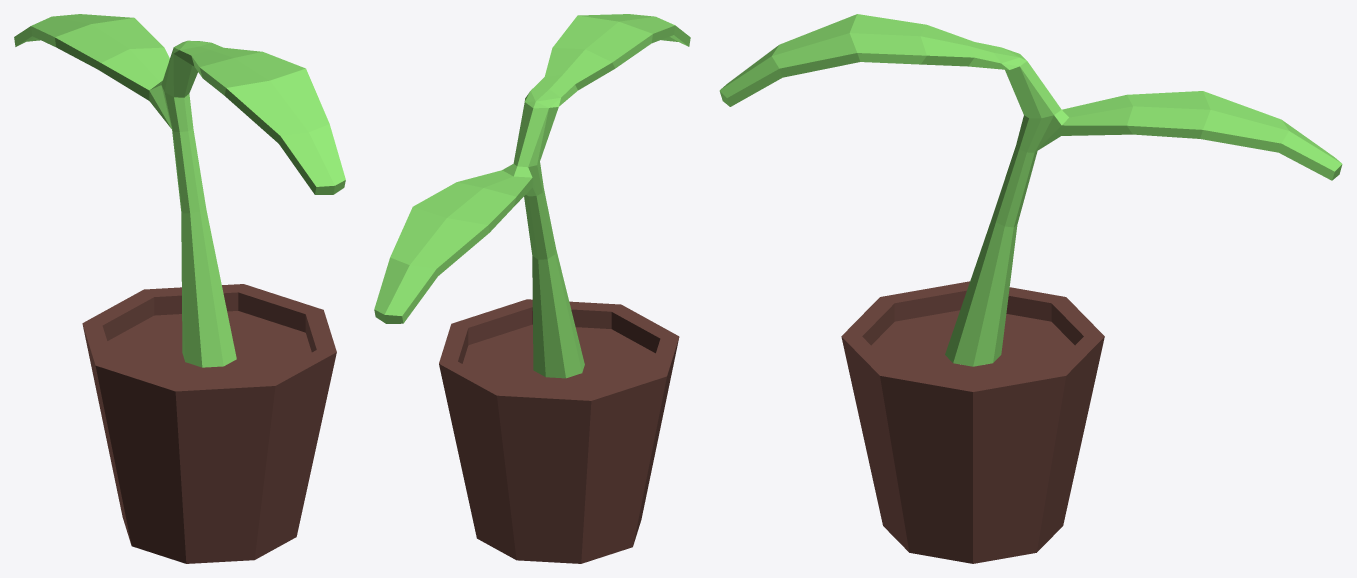
The model's file is Plant.glb.
The picture shows the model from 3 angles, left to right: view 1: azimuth 30°, elevation 25°; view 2: azimuth 150°, elevation 25°; view 3: azimuth 270°, elevation 25°; orthographic projection. The views are drawn at different scales.
Visible parts, largest first — view 1: Plant; view 2: Plant; view 3: Plant.
Part boxes in pixels (<box>): Plant: <box>14,14,345,563</box>; Plant: <box>374,14,690,563</box>; Plant: <box>719,14,1342,563</box>.
Size of the model in its own units: 0.1469 by 0.3028 by 0.3474.
